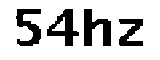4: (45, 6, 79, 49)
5: (8, 5, 43, 51)
h: (82, 5, 114, 47)
z: (116, 17, 145, 50)
